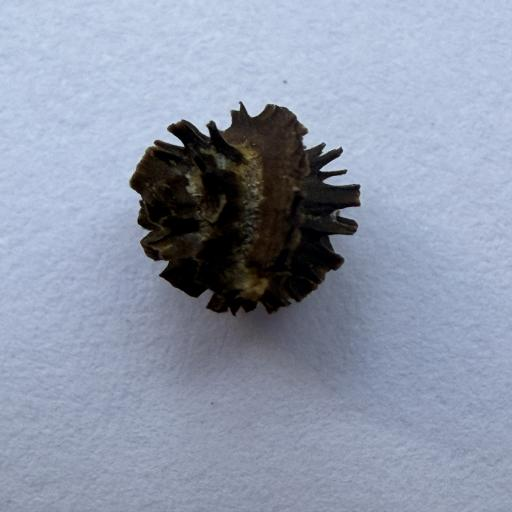papaya_seed: (122, 89, 384, 331)
